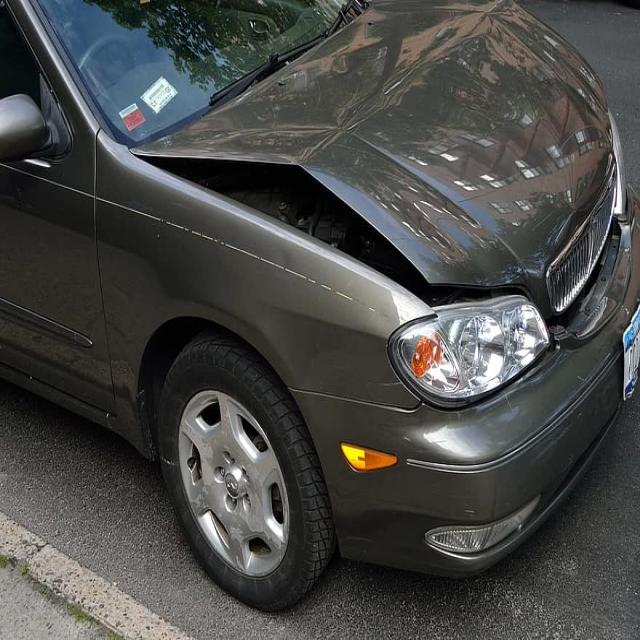crush: (130, 0, 620, 305)
misalignment: (522, 216, 622, 374)
